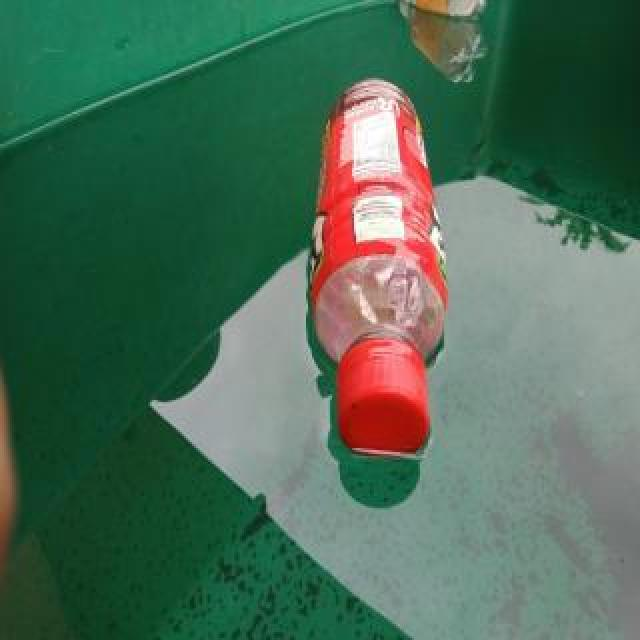bottle: (305, 78, 451, 456)
